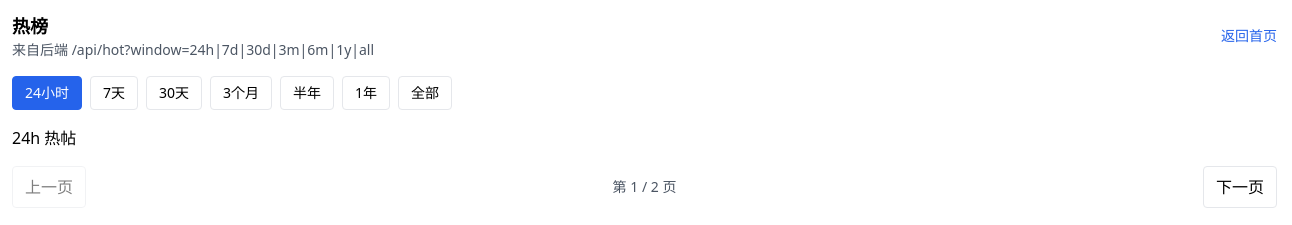
DiscoverHotPage › loads default hot posts, switches window, and pages forward
This screenshot has width=1292, height=225.
Expected: the text "24h 热帖" is shown, 12,127 -> 76,149
Expected: the text "第 1 / 2 页" is shown, 613,177 -> 676,197
What coordinates should you click on to do the following:
click the button "7天"
I would click on:
 (114, 93)
Its box is 90,76 -> 138,110.
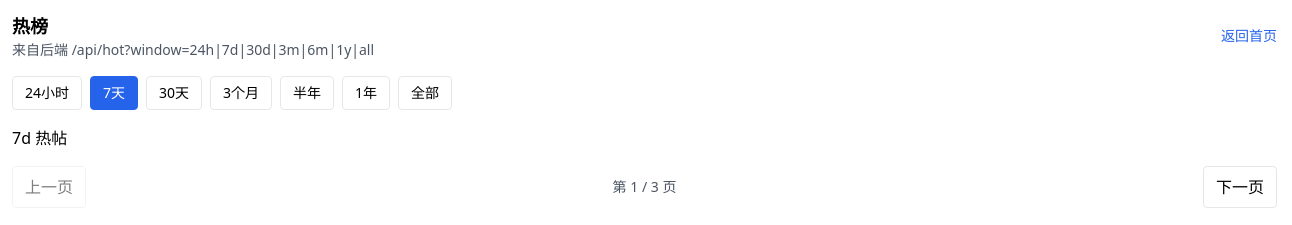
Now the text "7d 热帖" is shown, box 12,127 -> 67,149
Now the text "第 1 / 3 页" is shown, box 613,177 -> 676,197
What coordinates should you click on to do the following:
click the button "下一页"
I would click on:
 (1240, 187)
Its box is 1203,166 -> 1277,208.
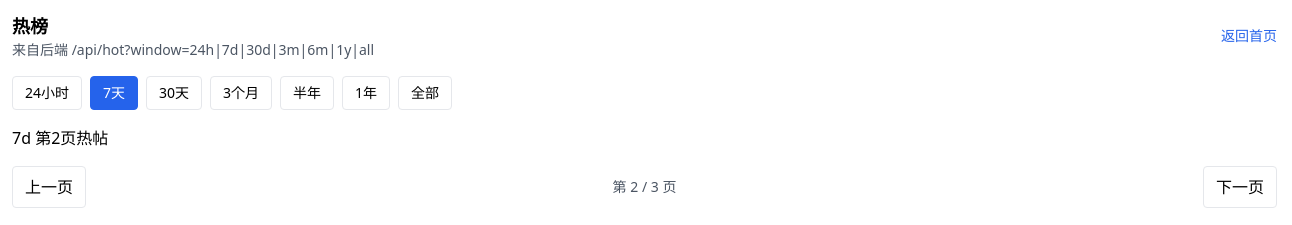
Now the text "7d 第2页热帖" is shown, box 12,127 -> 108,149
Now the text "第 2 / 3 页" is shown, box 613,177 -> 676,197
